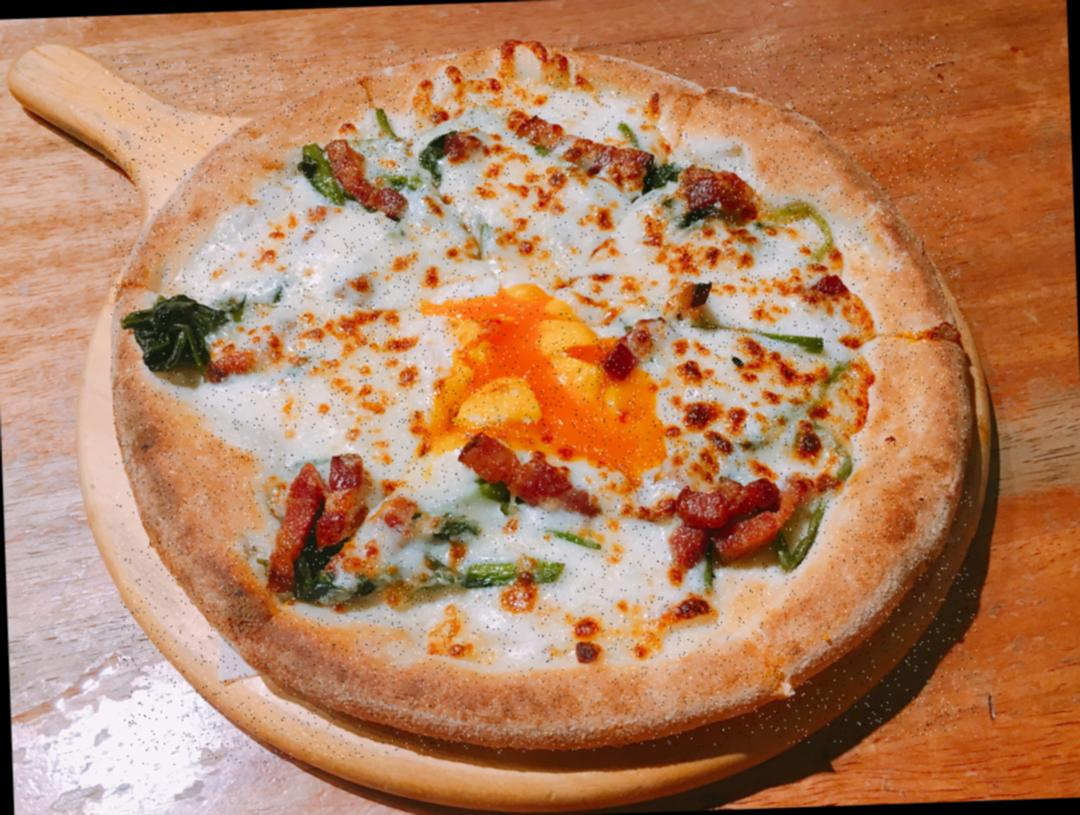Basil: (126, 290, 237, 384)
Cheese: (684, 241, 836, 460), (468, 182, 648, 340), (292, 251, 424, 426)
Pizza: (101, 29, 980, 766)
Tomatoes: (256, 446, 367, 599), (469, 434, 589, 524), (677, 479, 798, 568), (326, 138, 408, 218), (678, 161, 760, 221), (523, 112, 594, 167), (594, 148, 659, 188)
